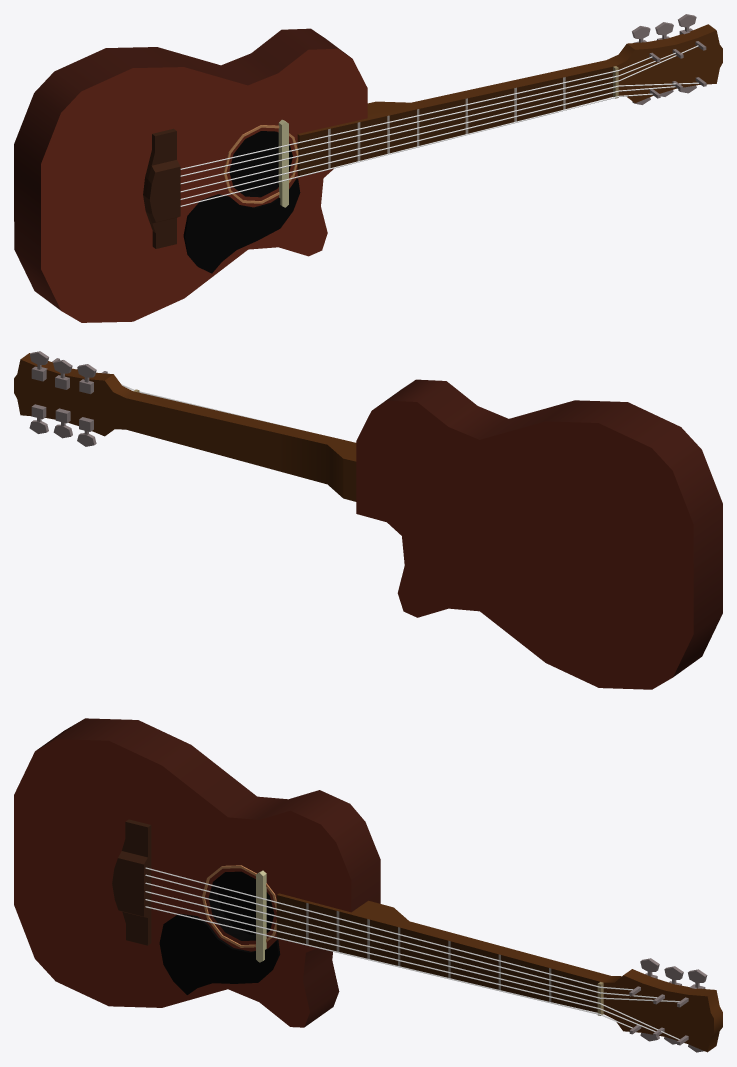
File: Acoustic Guitar.fbx
3 views of the same model, one above another, from view 1: azimuth 30°, elevation 25°; view 2: azimuth 150°, elevation 25°; view 3: azimuth 330°, elevation 25° (orthographic). The views are drawn at different scales.
Parts seen in each view (by area): view 1: Acoustic Guitar; view 2: Acoustic Guitar; view 3: Acoustic Guitar.
Boxes of the visible parts, <box> form: Acoustic Guitar: <box>14,14,722,322</box>; Acoustic Guitar: <box>14,351,722,689</box>; Acoustic Guitar: <box>14,718,722,1052</box>.
Size of the model in its own units: 1.28 by 0.4592 by 0.1384.
